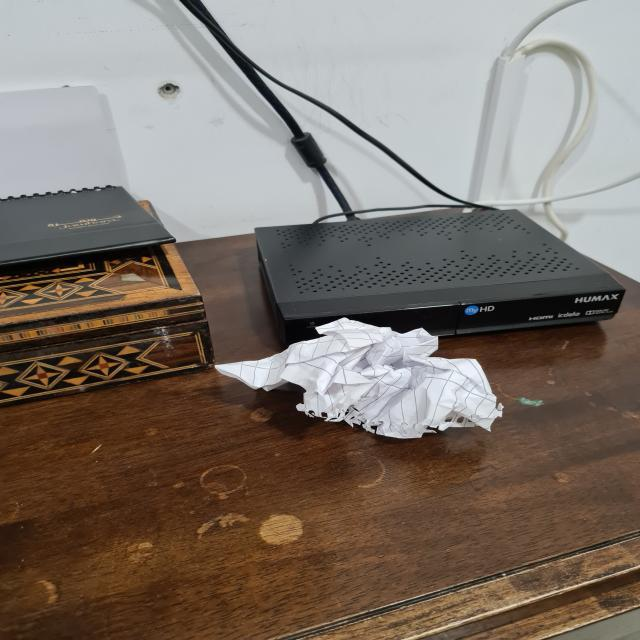Paper: (211, 316, 494, 440)
